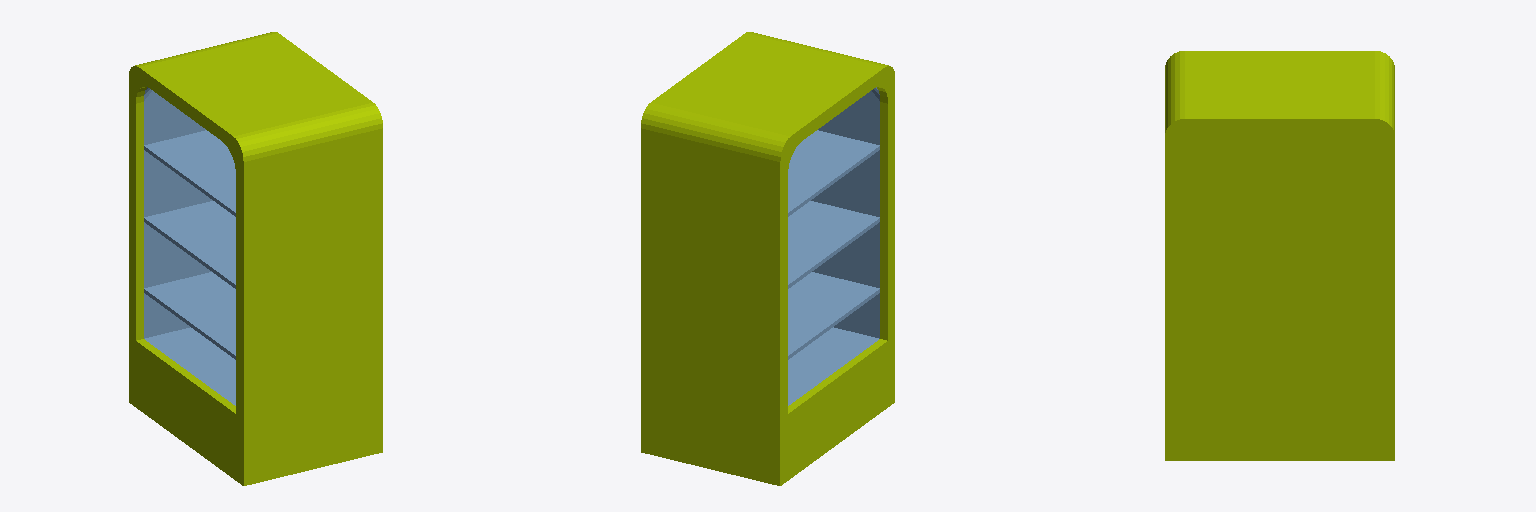
Rendered from Freezer.obj.
3 renders of one model, left to right at view 1: azimuth 30°, elevation 25°; view 2: azimuth 150°, elevation 25°; view 3: azimuth 270°, elevation 25°, orthographic.
Visible parts, largest first — view 1: Fridge; view 2: Fridge; view 3: Fridge.
Part boxes in pixels (x1,y1,x2,y2): Fridge: (129,32,382,485); Fridge: (641,32,894,485); Fridge: (1165,51,1394,460).
Bounding box in the file's own units: 0.7294 × 1.71 × 1.04.